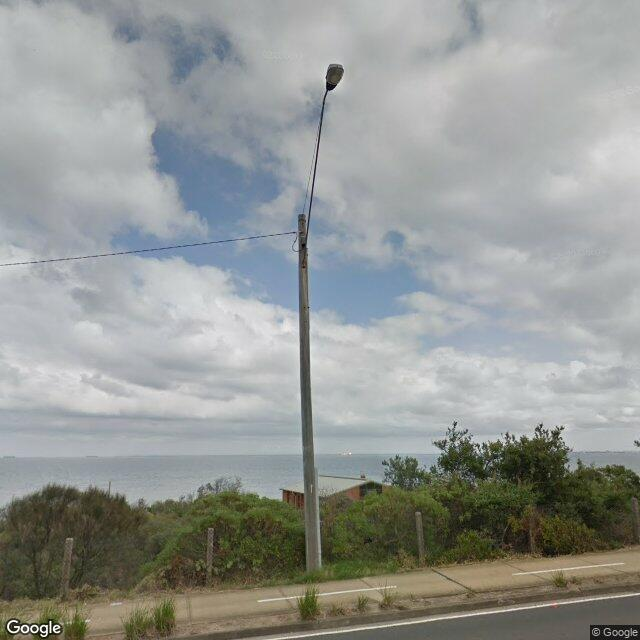streetlight: (300, 63, 345, 268)
timber-pole: (298, 213, 322, 573)
